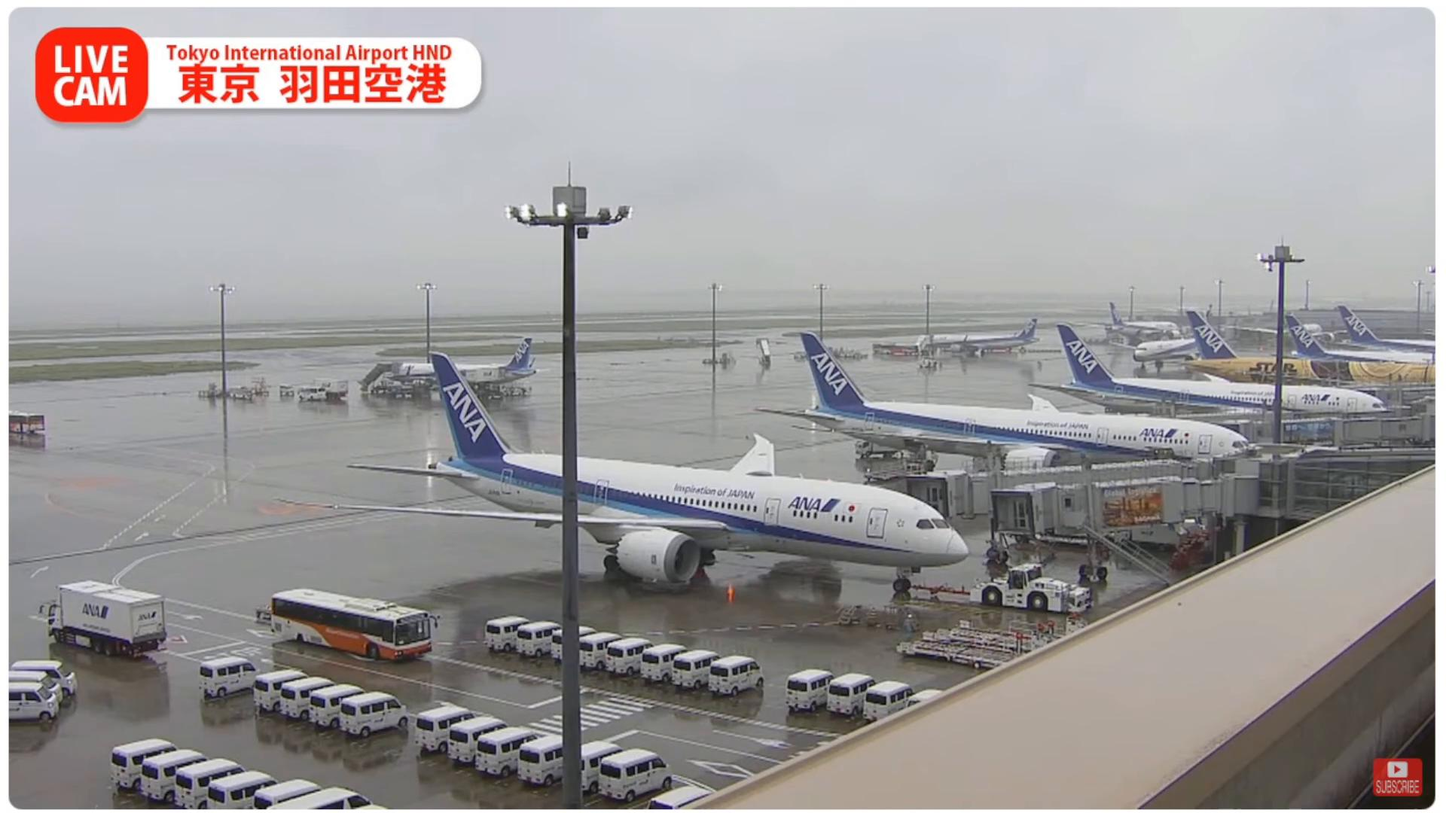APS: (968, 562, 1094, 614)
Aerobridge: (904, 455, 1210, 520), (991, 474, 1261, 535)
Airplane: (270, 351, 970, 592)
JCPL: (924, 615, 1087, 656), (888, 630, 1024, 671)
Window: (1292, 458, 1433, 516)
